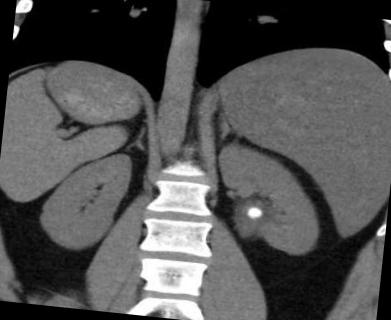Tas_Var: (242, 202, 268, 223)
